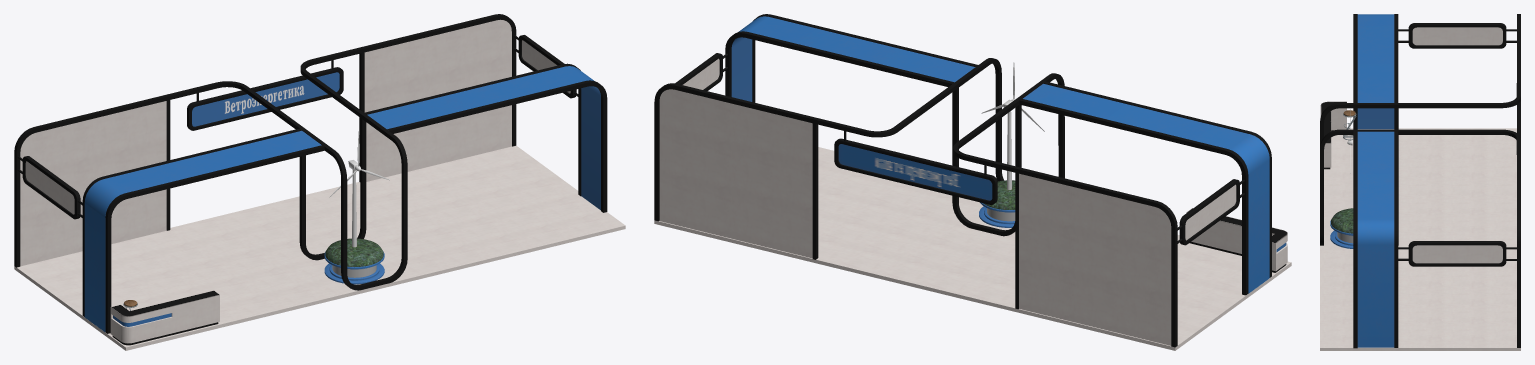
Rendered from vetrogenerator.fbx.
The picture shows the model from 3 angles, left to right: view 1: azimuth 30°, elevation 25°; view 2: azimuth 150°, elevation 25°; view 3: azimuth 270°, elevation 25°; orthographic projection. The views are drawn at different scales.
Parts seen in each view (by area): view 1: Rectangle717; view 2: Rectangle717; view 3: Rectangle717, Color_low.
Boxes of the visible parts, x1,y1,x2,y2 form: Rectangle717: [14, 14, 625, 350]; Rectangle717: [654, 14, 1291, 350]; Rectangle717: [1320, 14, 1520, 350]; Color_low: [1343, 110, 1356, 140].
Size of the model in its own units: 2164 by 606 by 836.
Materials: 1 (1 with a texture image).
